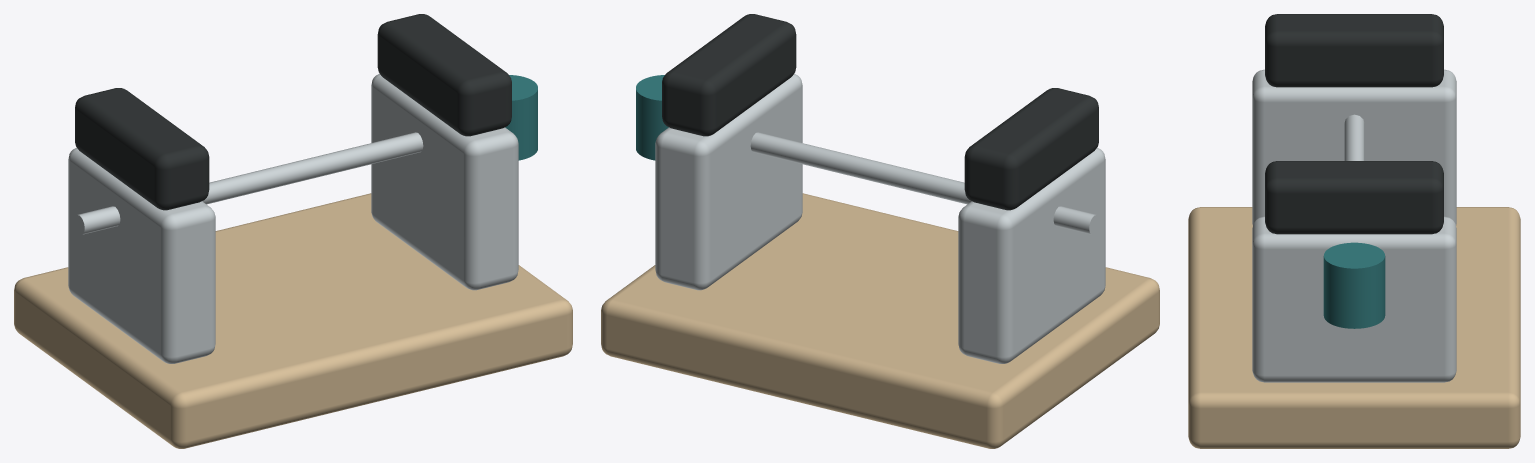
The model's file is tabletop-hobby-store-and-club-miniature-painting-cradl-4fd197c7__31605.glb.
3 renders of one model, left to right at view 1: azimuth 30°, elevation 25°; view 2: azimuth 150°, elevation 25°; view 3: azimuth 270°, elevation 25°, orthographic.
Parts seen in each view (by area): view 1: miniature-painting-cradle; view 2: miniature-painting-cradle; view 3: miniature-painting-cradle.
Boxes of the visible parts, box(x1,y1,x2,y2) form: miniature-painting-cradle: box(14, 14, 572, 448); miniature-painting-cradle: box(601, 14, 1159, 448); miniature-painting-cradle: box(1188, 14, 1520, 448).
Size of the model in its own units: 0.102 by 0.056 by 0.065.
